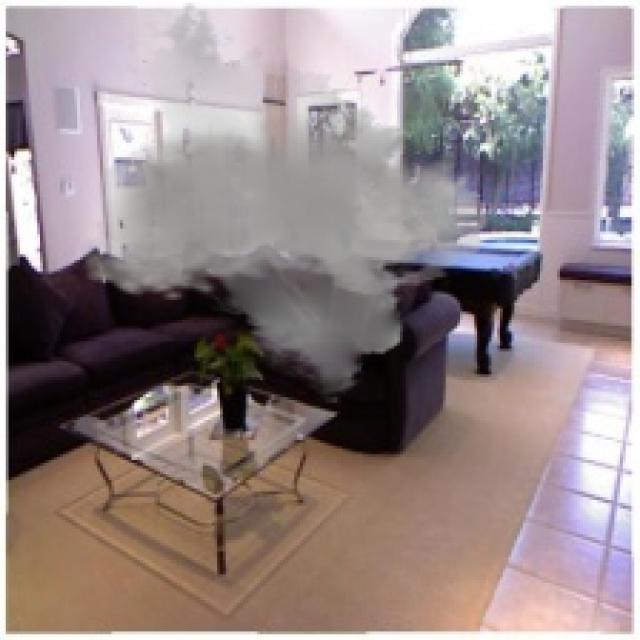smoke: (80, 0, 489, 406)
